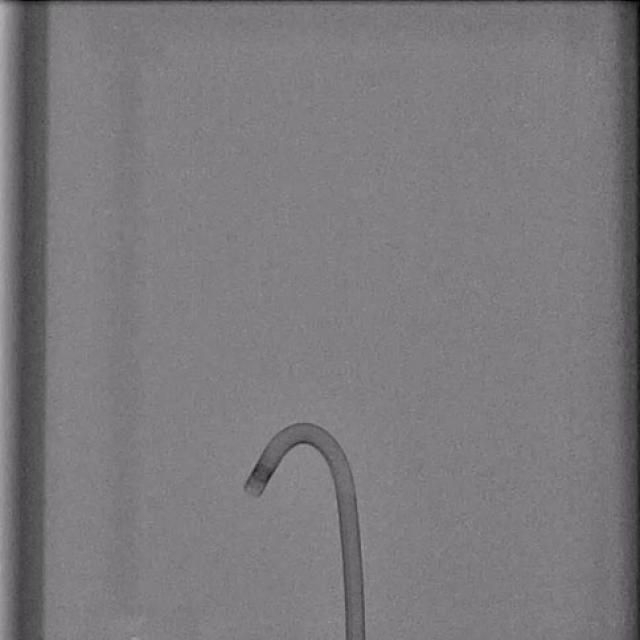bend: (336, 482, 355, 491)
entry: (346, 634, 365, 640)
marker: (251, 462, 274, 483)
tip: (244, 486, 262, 496)
